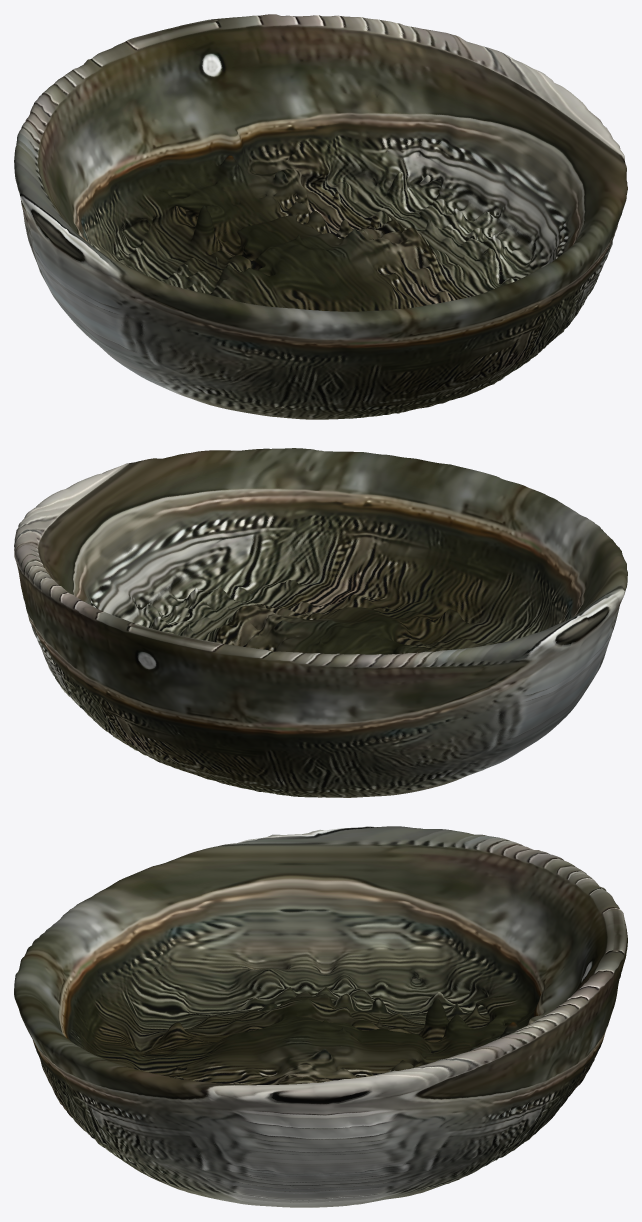
The model's file is kfl-2254.glb.
The picture shows the model from 3 angles, top to bottom: view 1: azimuth 30°, elevation 25°; view 2: azimuth 150°, elevation 25°; view 3: azimuth 270°, elevation 25°; orthographic projection.
Visible parts, largest first — view 1: kfl-2254; view 2: kfl-2254; view 3: kfl-2254.
Boxes of the visible parts, x1,y1,x2,y2 form: kfl-2254: (14, 14, 627, 419); kfl-2254: (14, 448, 627, 797); kfl-2254: (14, 826, 627, 1207).
Size of the model in its own units: 0.9899 by 0.4093 by 0.9883.
Materials: 1 (1 with a texture image).
